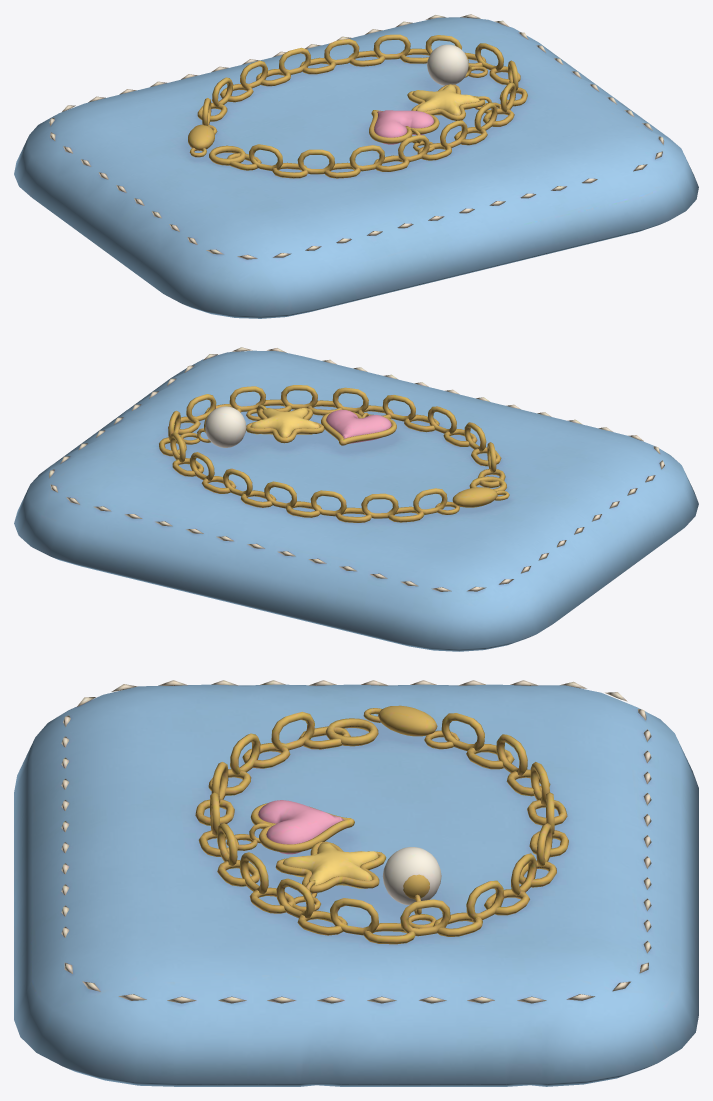
Rendered from bracelet.glb.
3 views of the same model, one above another, from view 1: azimuth 30°, elevation 25°; view 2: azimuth 150°, elevation 25°; view 3: azimuth 270°, elevation 25° (orthographic). The views are drawn at different scales.
Parts seen in each view (by area): view 1: bracelet_body; view 2: bracelet_body; view 3: bracelet_body.
Boxes of the visible parts, <box> form: bracelet_body: <box>14,14,698,318</box>; bracelet_body: <box>14,347,698,651</box>; bracelet_body: <box>14,680,698,1086</box>.
Bounding box in the file's own units: 0.124 × 0.0246 × 0.1.
1 material, 1 textured.
